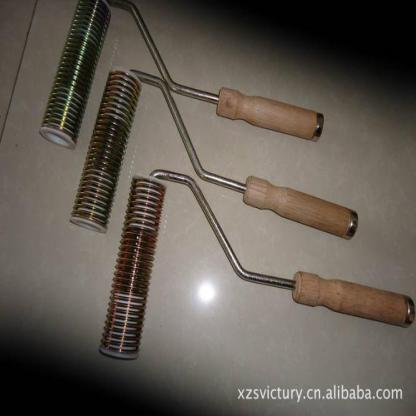FOD: (96, 174, 167, 360), (68, 66, 141, 239), (41, 0, 113, 150)
